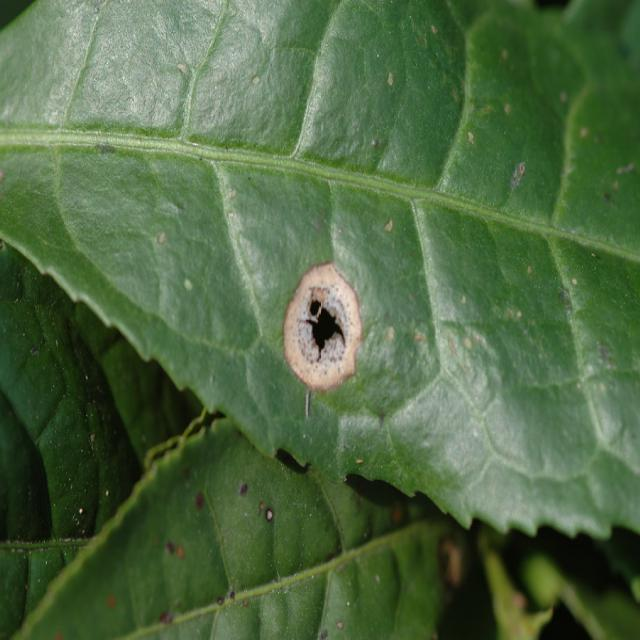Tea cloud leaf blight: (269, 256, 373, 389)
